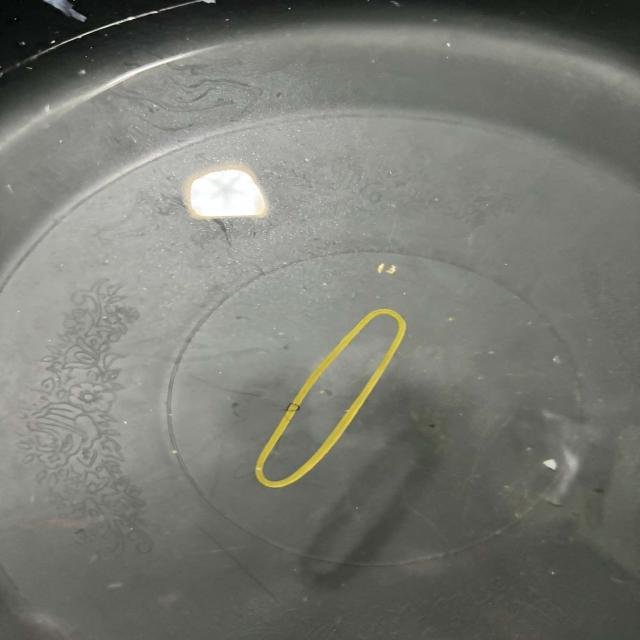Rubberband: (244, 298, 412, 507)
